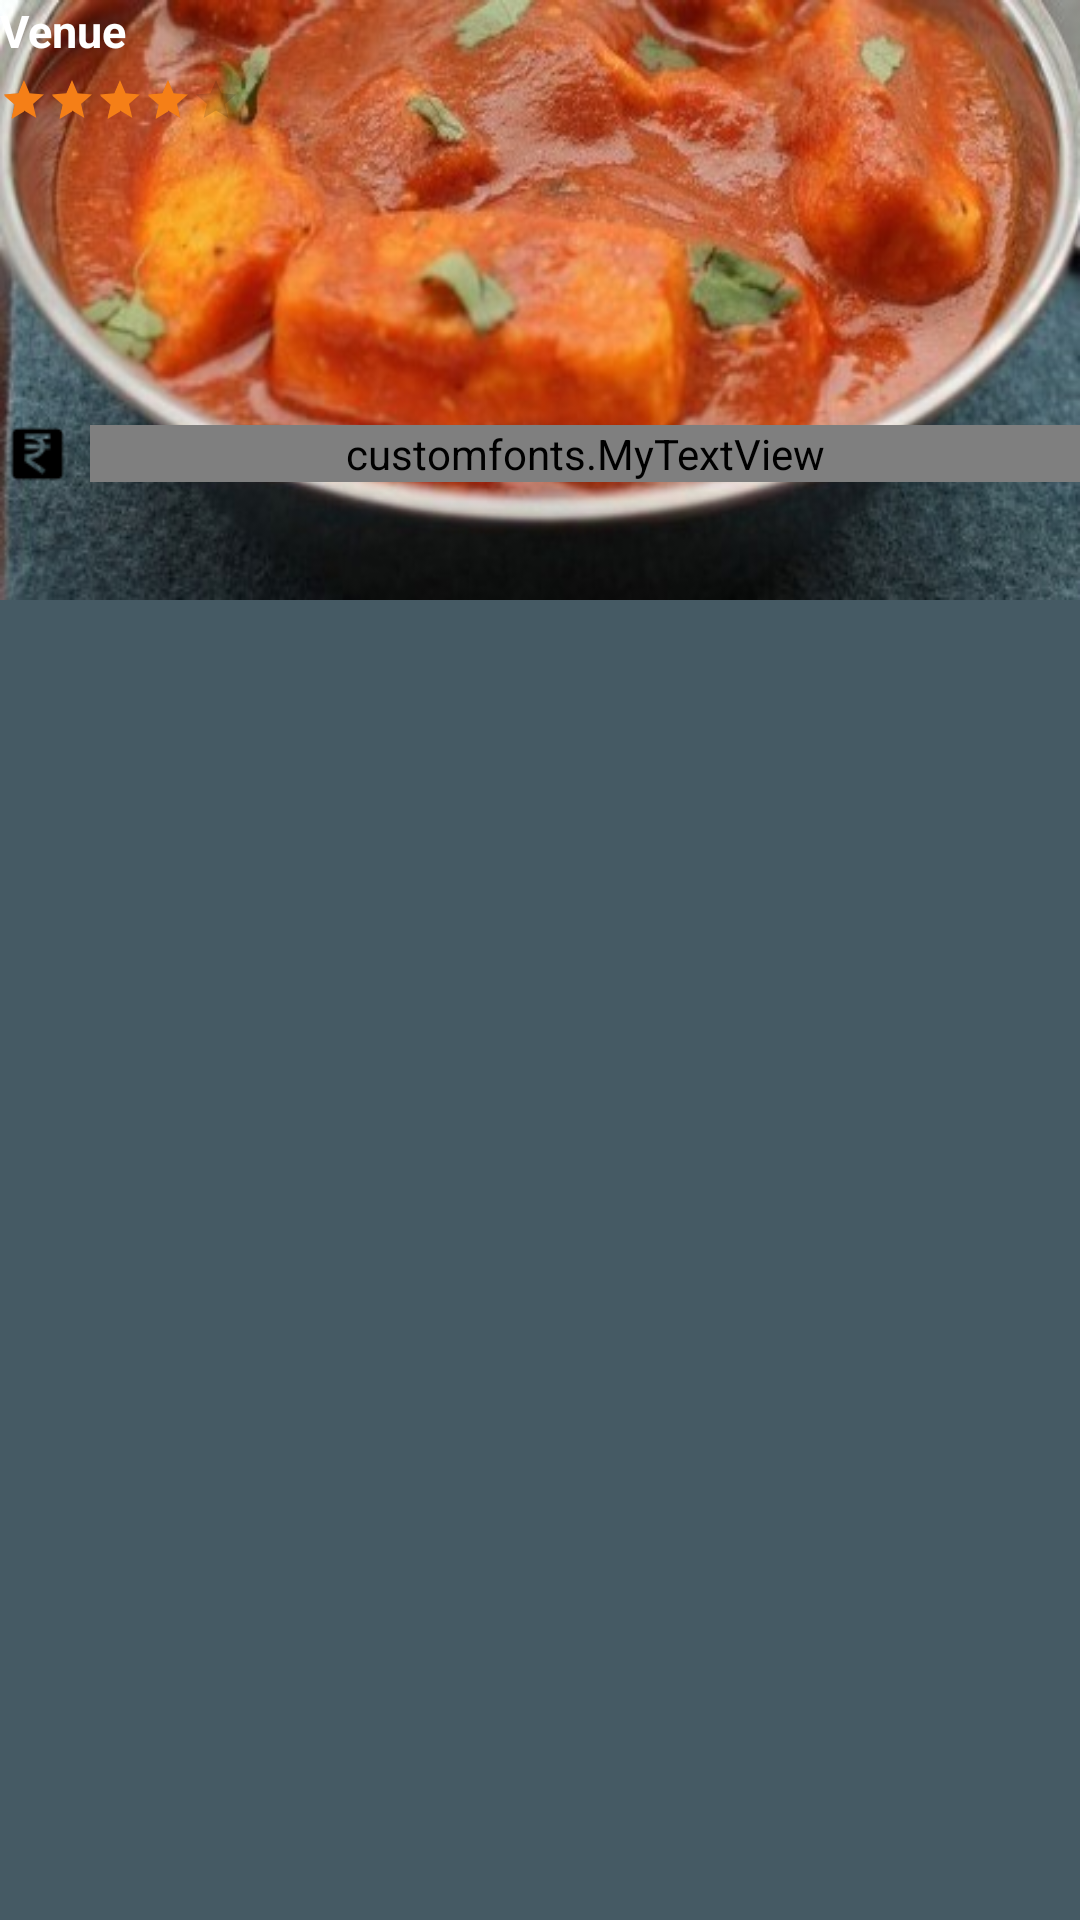

Screen size 1080x1920. Icon name, then its center in pixels as [x,y]:
rupee: [40,453]
